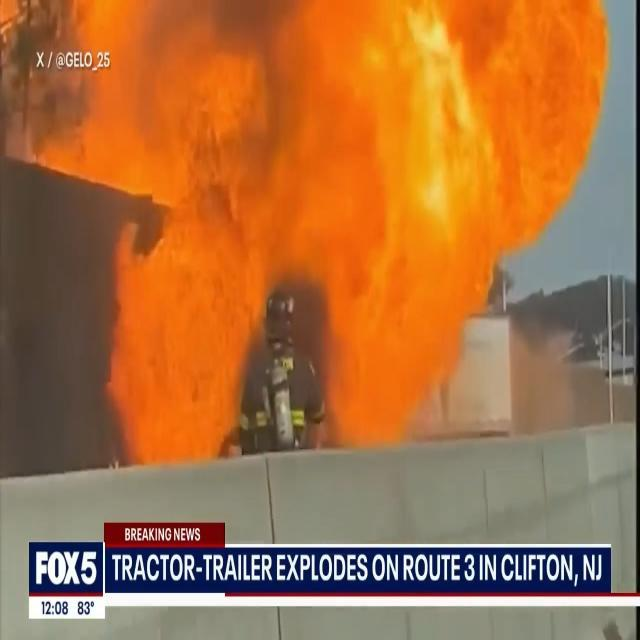fire: (243, 0, 615, 280), (62, 0, 268, 466), (322, 277, 464, 424)
